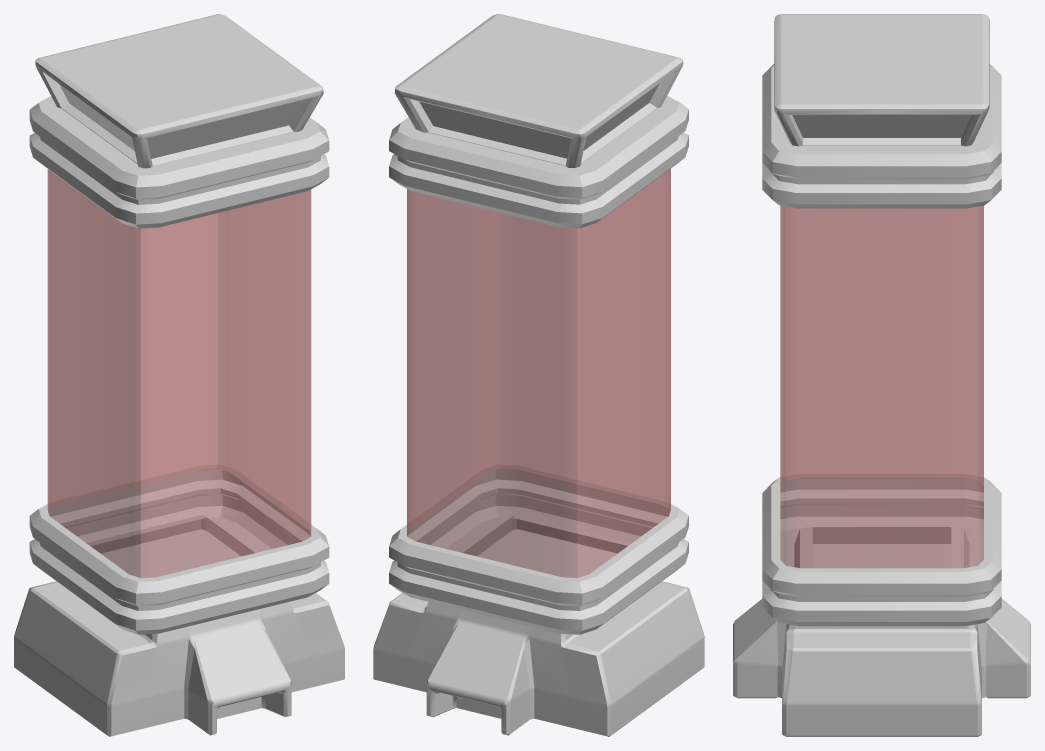
Rendered from Glas_Chamber.fbx.
3 views of the same model, side by side, from view 1: azimuth 30°, elevation 25°; view 2: azimuth 150°, elevation 25°; view 3: azimuth 270°, elevation 25° (orthographic). The views are drawn at different scales.
Parts seen in each view (by area): view 1: SM_Four_Side_Sign; view 2: SM_Four_Side_Sign; view 3: SM_Four_Side_Sign.
Boxes of the visible parts, x1,y1,x2,y2 form: SM_Four_Side_Sign: (14,14,344,736); SM_Four_Side_Sign: (373,14,704,736); SM_Four_Side_Sign: (733,14,1030,736).
Size of the model in its own units: 925 by 2236 by 976.
